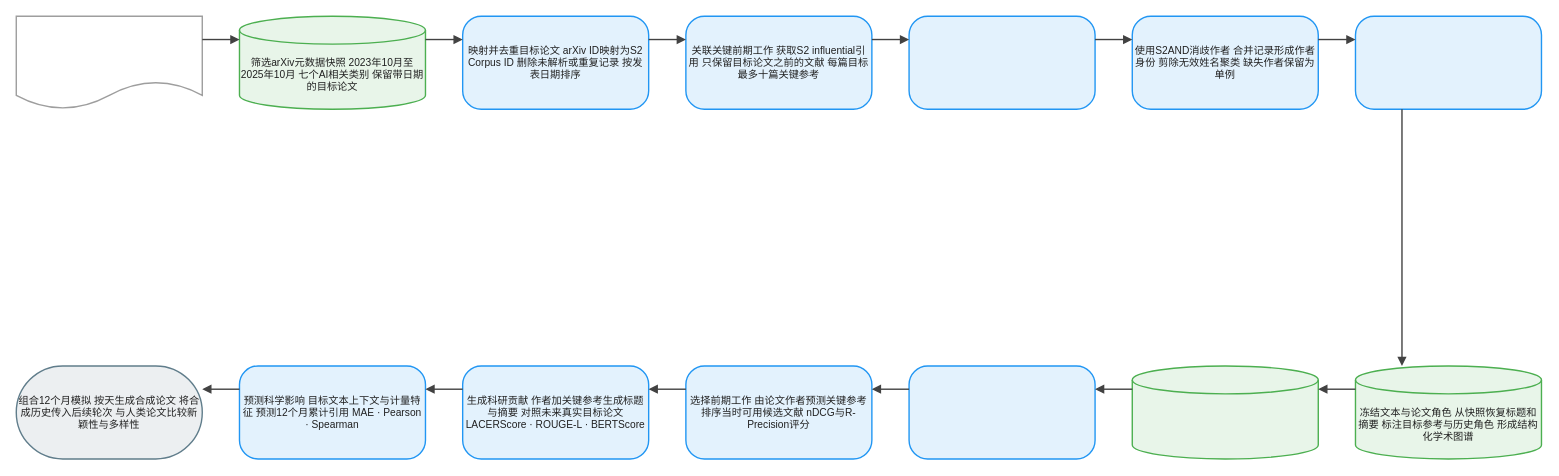
The diagram is 1559 pixels wide and 476 high, and some of its shapes have lost their labels. The shapes that lost their labels are listed below. From the top down, each one's box as (x1, y1, x2, y2) in pixels, then its label:
(15, 15, 203, 110): 固定科学预测时间线 预测截止点之后的科研进展 排除截止点之后的证据 保留完整时间元数据
(908, 15, 1095, 110): 扩展作者发表历史 获取目标论文作者 加入目标之前的作者论文 加入历史论文使用的参考文献
(1354, 15, 1542, 110): 时间对齐引用元数据 仅统计目标发表前引用 按截止时间计算作者h-index 构建逐月引用轨迹
(908, 365, 1095, 459): 预测合作者 种子作者预测其余作者 仅使用既往发表历史 nDCG与R-Precision评分
(1131, 365, 1319, 459): 发布时间切分 训练：2023年10月至2024年10月 测试：2024年10月至2025年10月 9.8万目标 · 共50.2万论文
